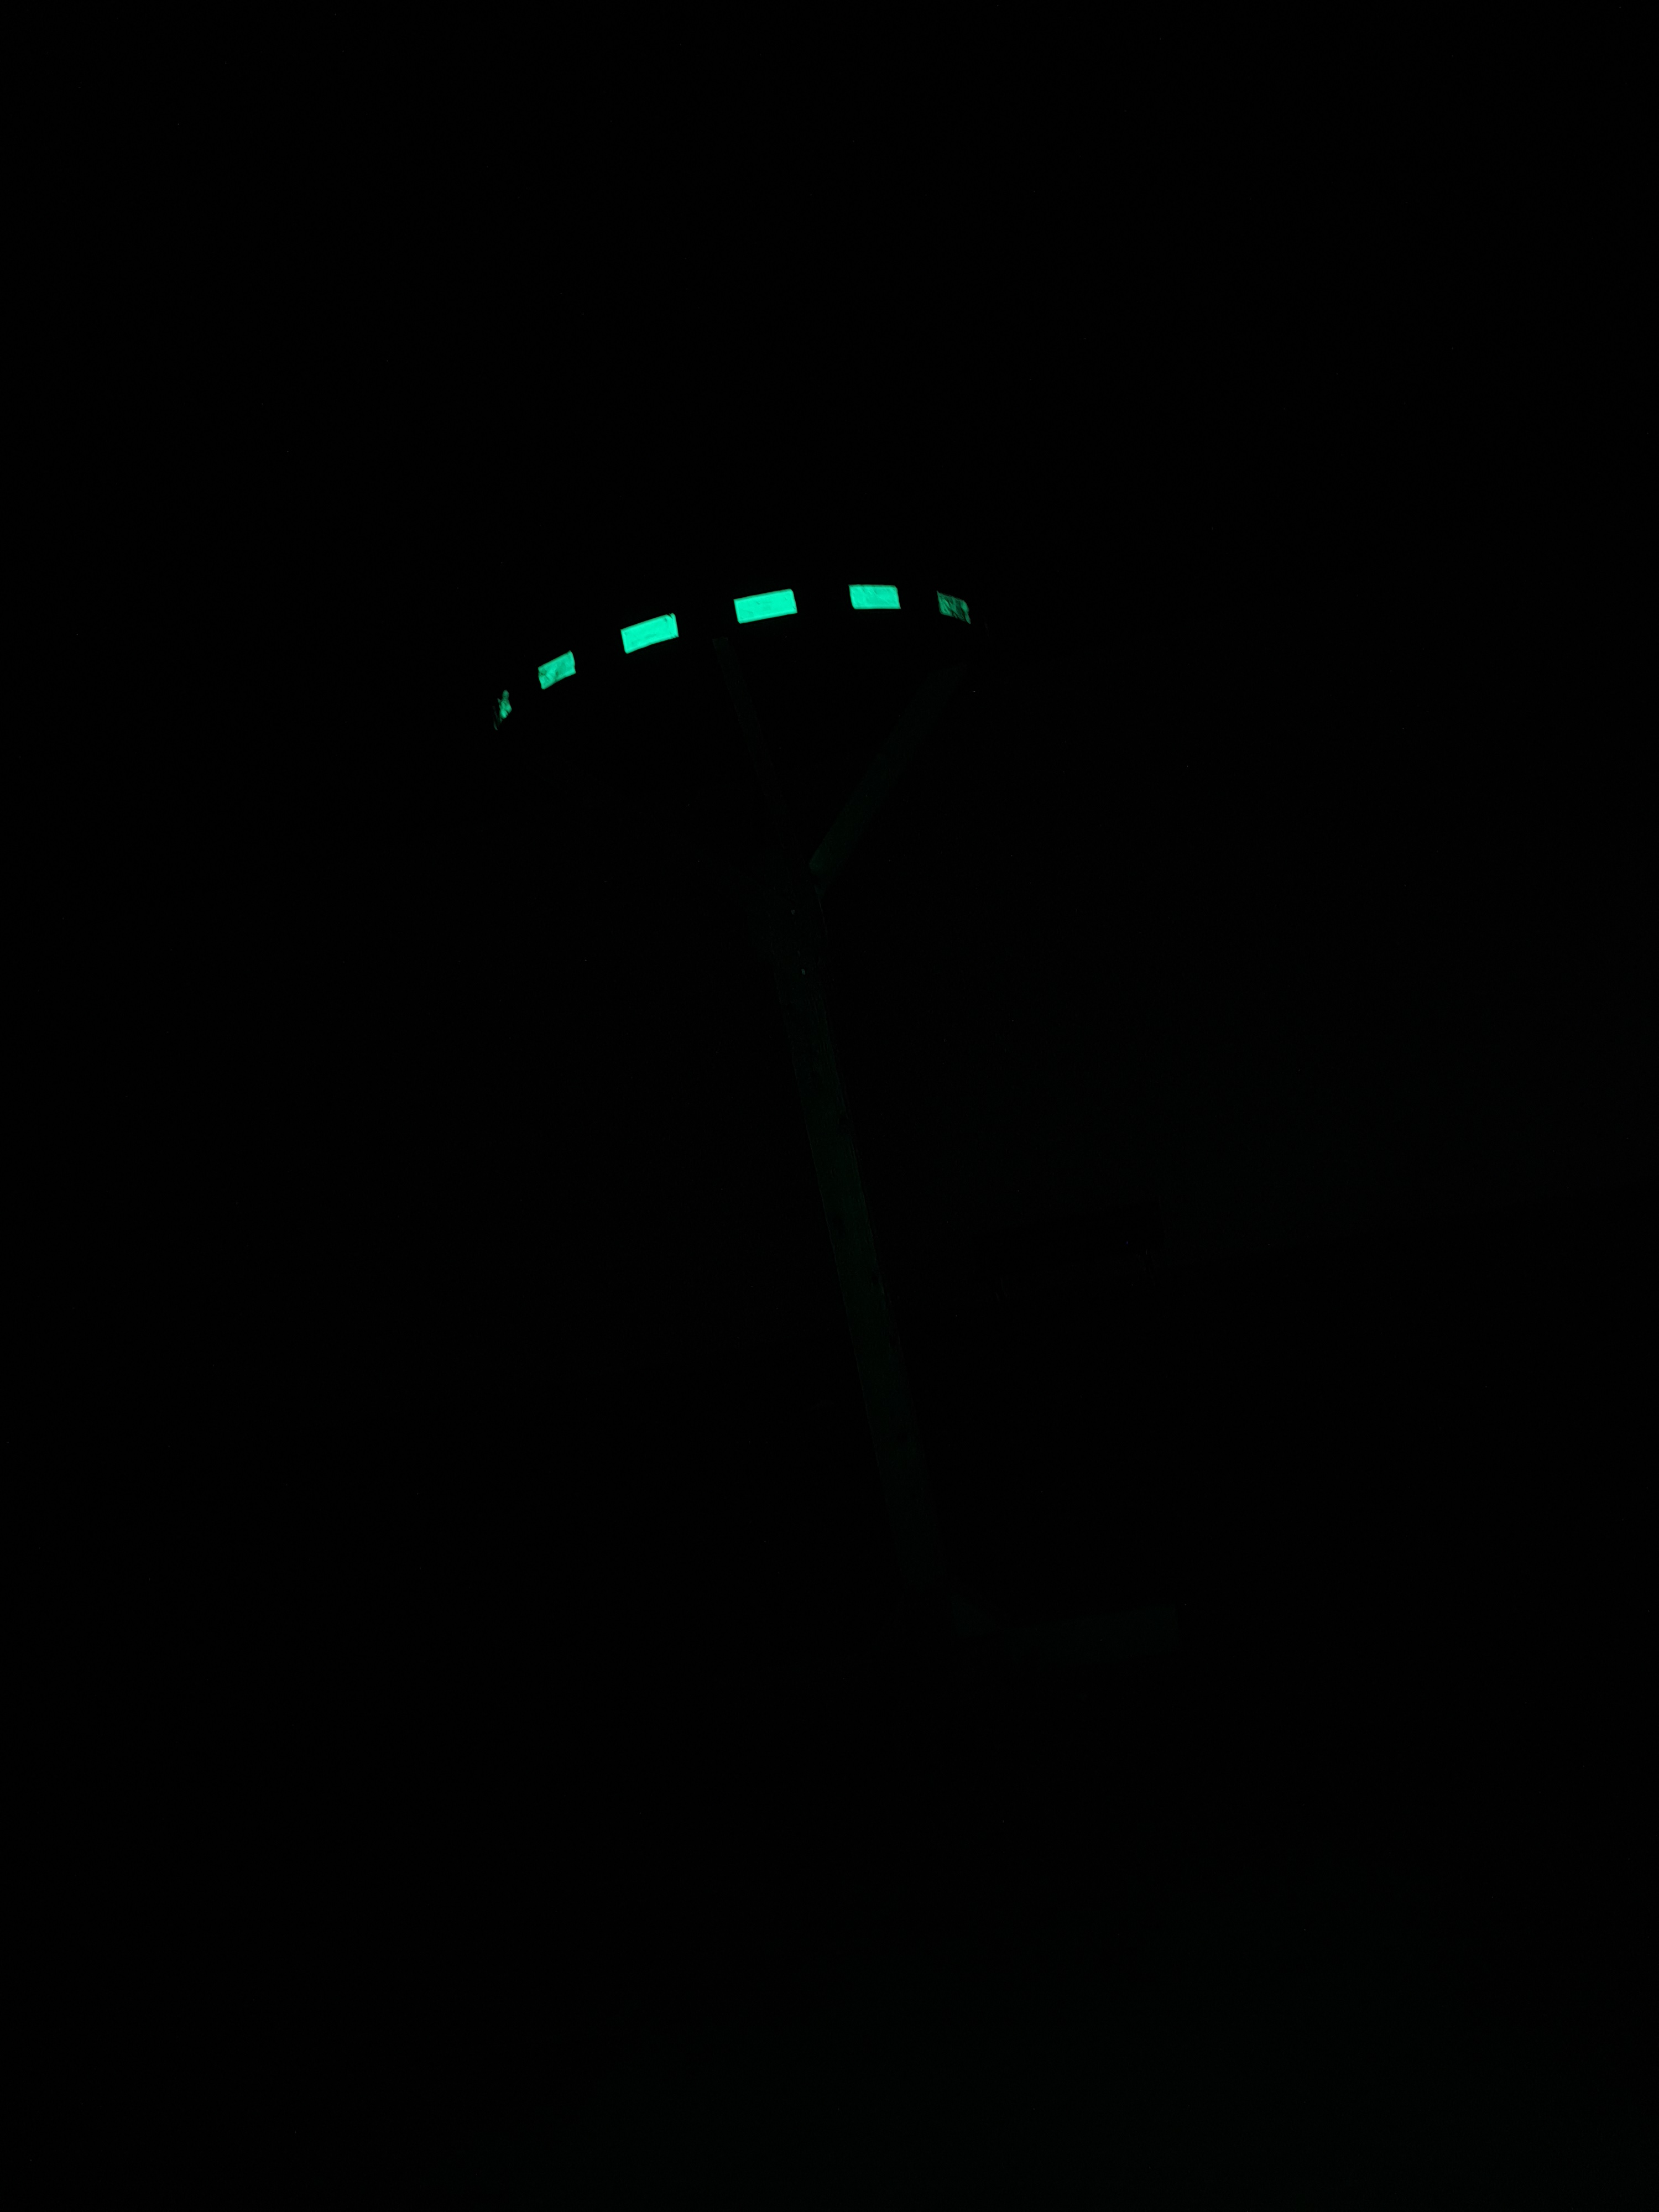hoop: (490, 578, 972, 735)
